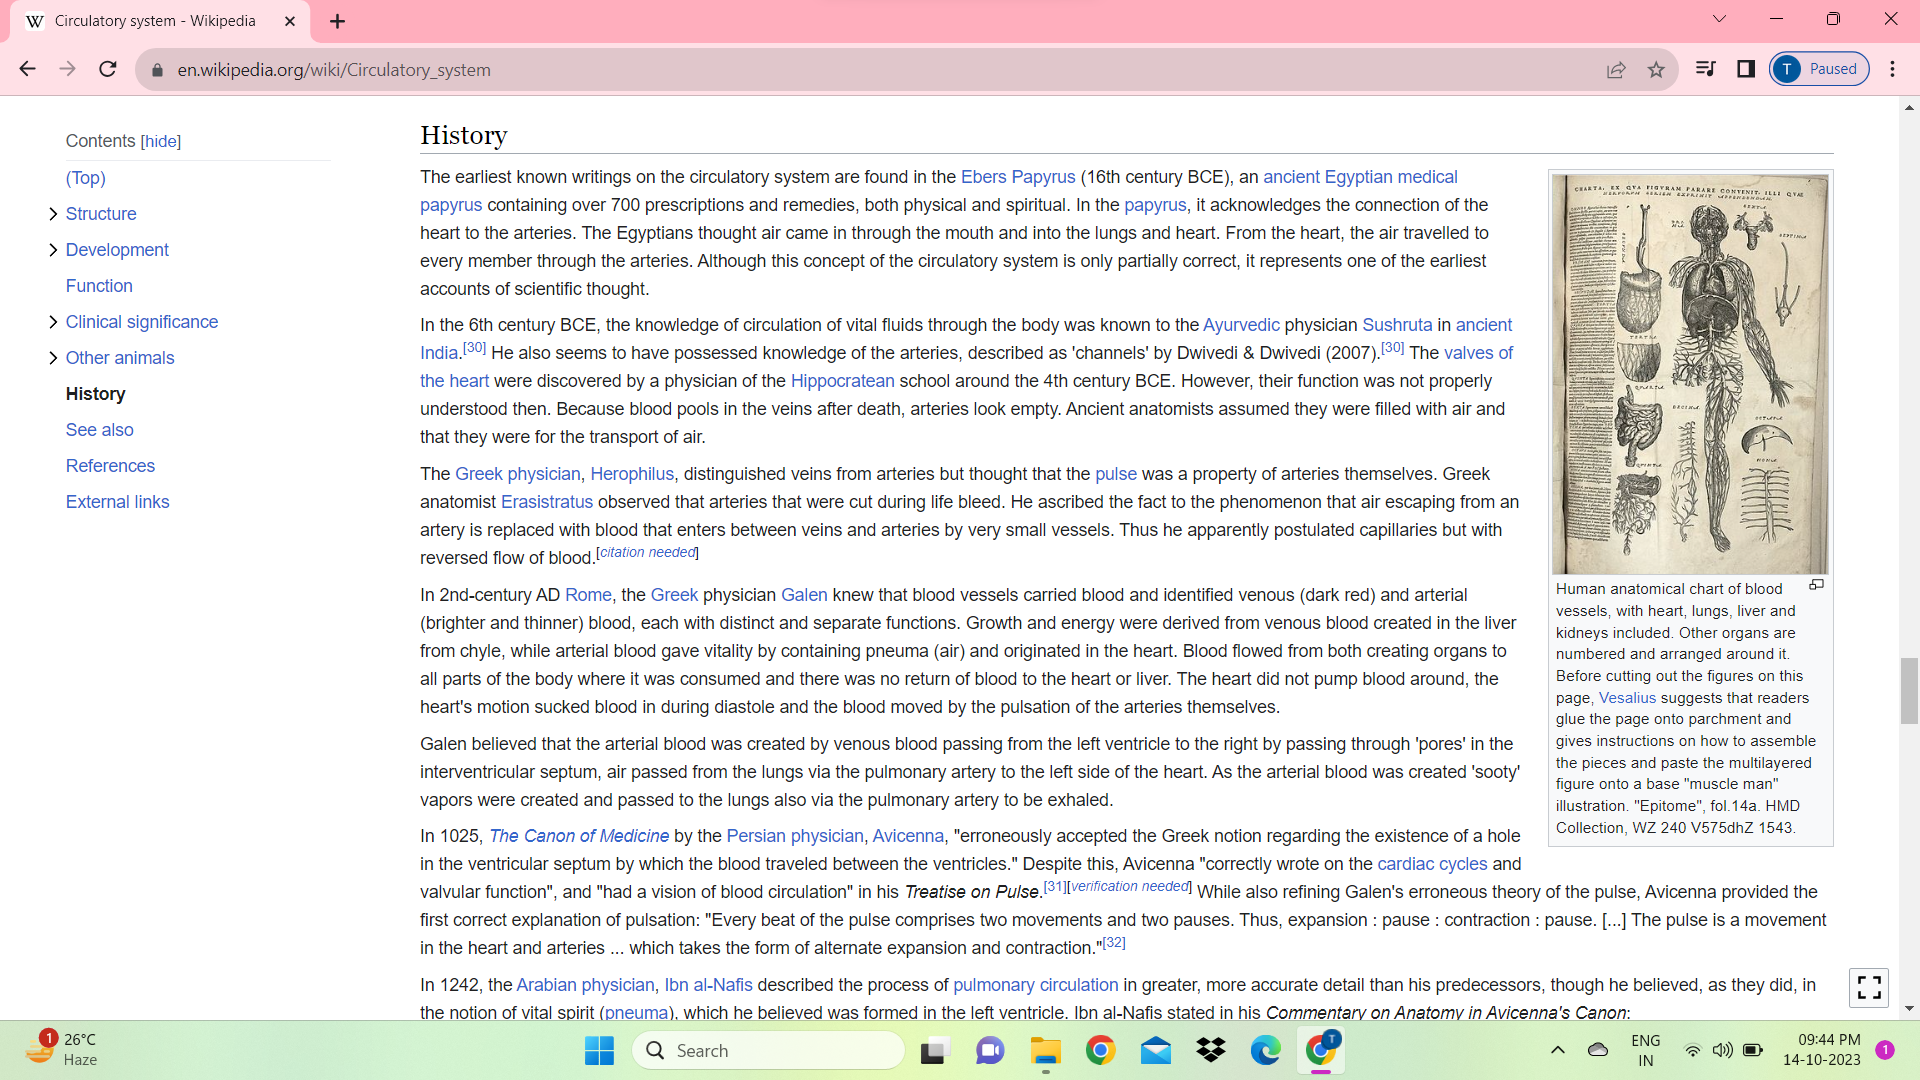Image: (1547, 164, 1838, 554)
Paragraph: (400, 815, 1846, 1040), (404, 164, 1523, 305), (404, 309, 1534, 447), (417, 587, 1520, 719), (401, 454, 1530, 576), (410, 729, 1523, 815), (1538, 570, 1845, 851), (62, 306, 244, 340), (58, 483, 187, 530), (51, 125, 211, 164), (41, 373, 153, 411), (57, 196, 153, 237), (417, 115, 518, 152), (406, 583, 414, 589)
